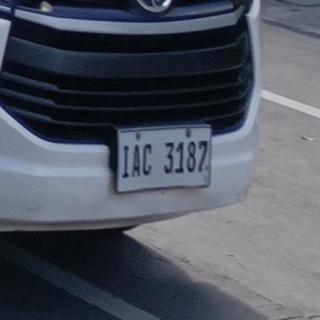license: (119, 126, 212, 193)
